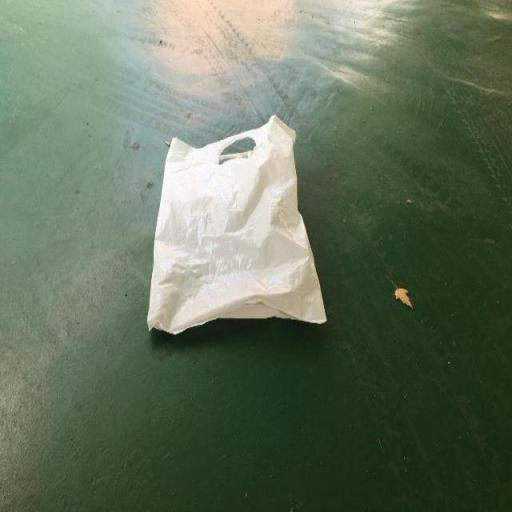plastic-bag: (146, 112, 328, 341)
